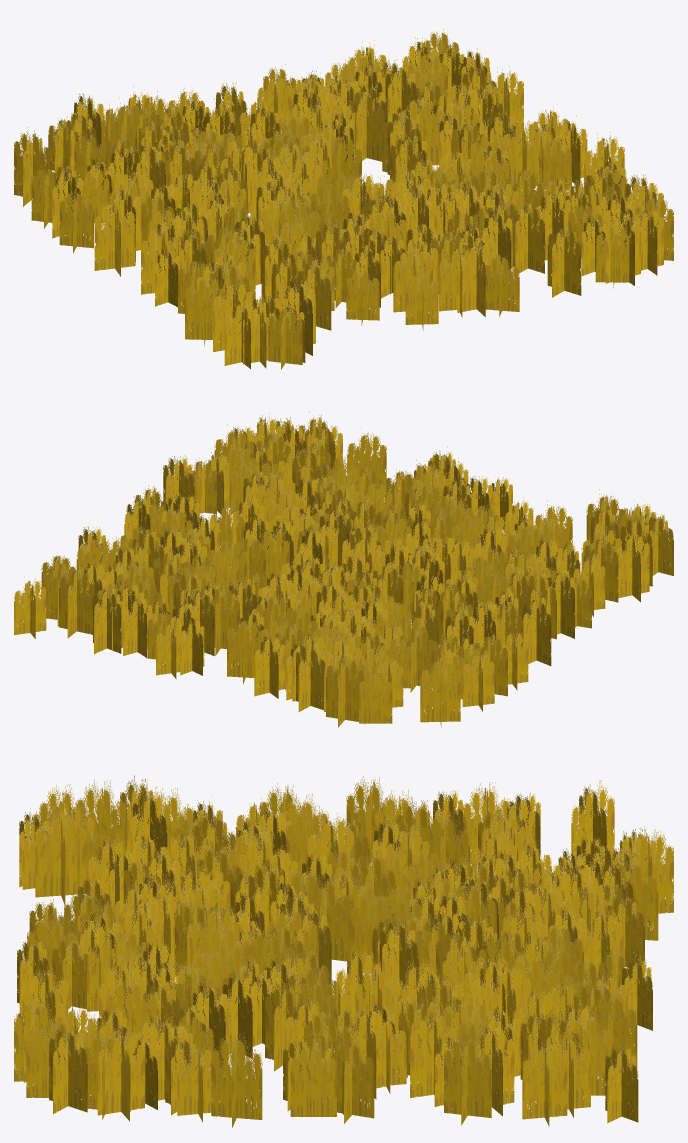
The model's file is Farmi_Pelto_10m_LOD2.fbx.
The picture shows the model from 3 angles, top to bottom: view 1: azimuth 30°, elevation 25°; view 2: azimuth 150°, elevation 25°; view 3: azimuth 270°, elevation 25°; orthographic projection. The views are drawn at different scales.
Visible parts, largest first — view 1: Farmi_Pelto_10m_LOD2; view 2: Farmi_Pelto_10m_LOD2; view 3: Farmi_Pelto_10m_LOD2.
Part boxes in pixels (x1,y1,x2,y2): Farmi_Pelto_10m_LOD2: [14, 29, 673, 369]; Farmi_Pelto_10m_LOD2: [14, 411, 673, 727]; Farmi_Pelto_10m_LOD2: [14, 775, 673, 1127].
Bounding box in the file's own units: 1067 × 171 × 1071.
